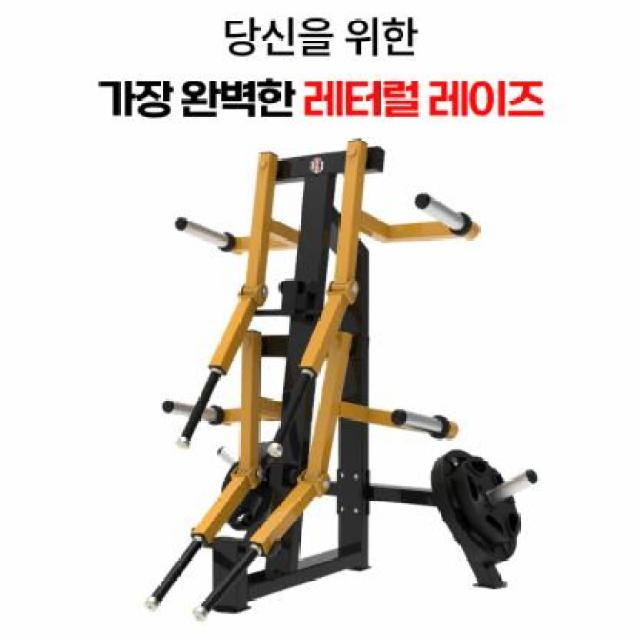lateral raises machine: (146, 328, 542, 623)
